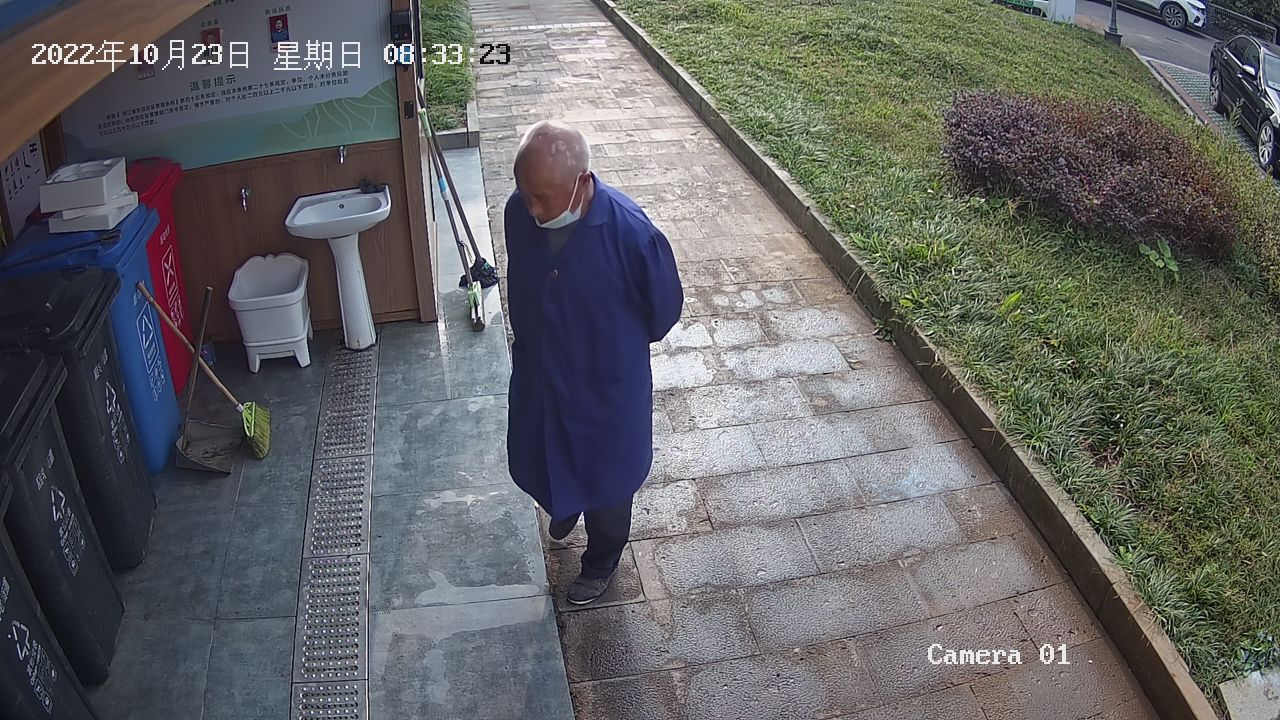worker: (496, 117, 691, 610)
